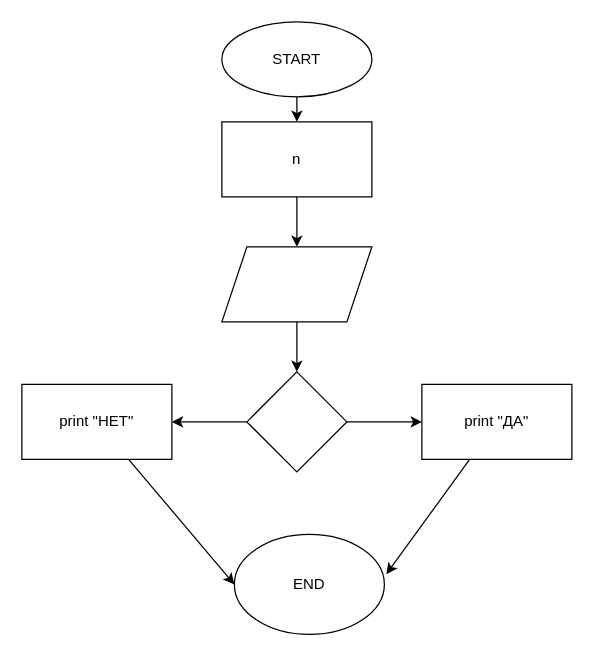
Image size: 594x656. Some labels were removed from this diagram. The centre of each missing label's shape, as x and y in pixels:
"Ведите n: ": (x=296, y=284)
n mod 2 = 0: (x=296, y=421)
